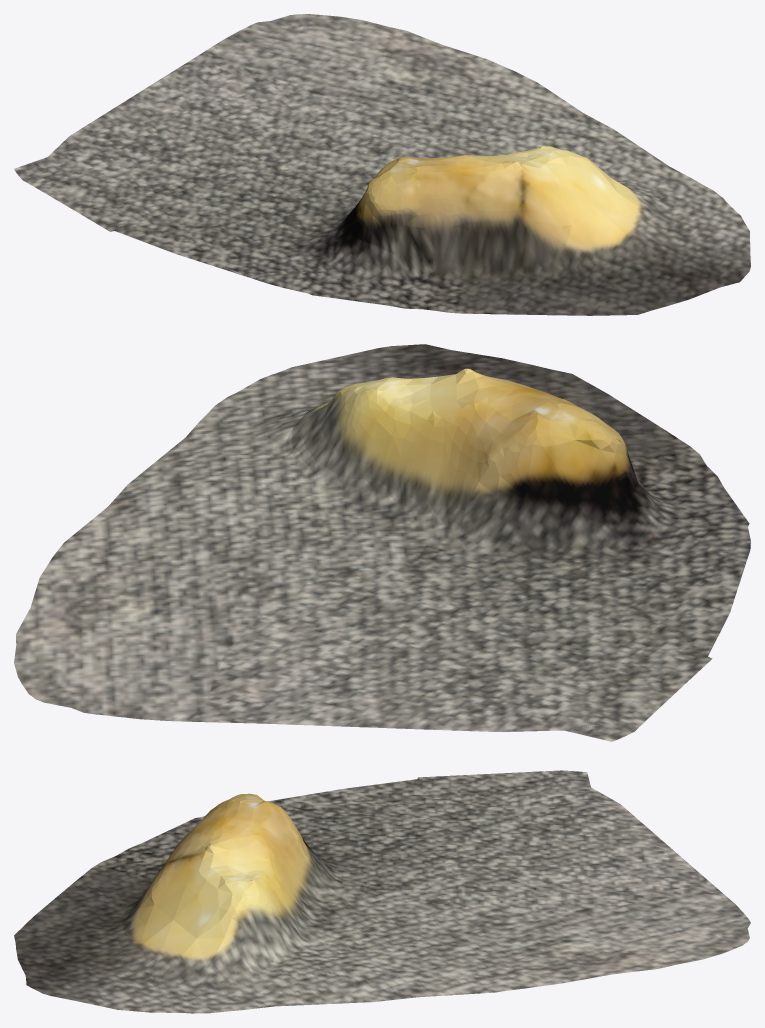
The model's file is scene-mt2ont3s.glb.
The picture shows the model from 3 angles, top to bottom: view 1: azimuth 30°, elevation 25°; view 2: azimuth 150°, elevation 25°; view 3: azimuth 270°, elevation 25°; orthographic projection. The views are drawn at different scales.
Parts seen in each view (by area): view 1: mesh; view 2: mesh; view 3: mesh.
Boxes of the visible parts, x1,y1,x2,y2 form: mesh: [14, 14, 750, 315]; mesh: [14, 344, 750, 741]; mesh: [14, 770, 750, 1013].
Size of the model in its own units: 0.1274 by 0.021 by 0.1649.
Materials: 1 (1 with a texture image).
